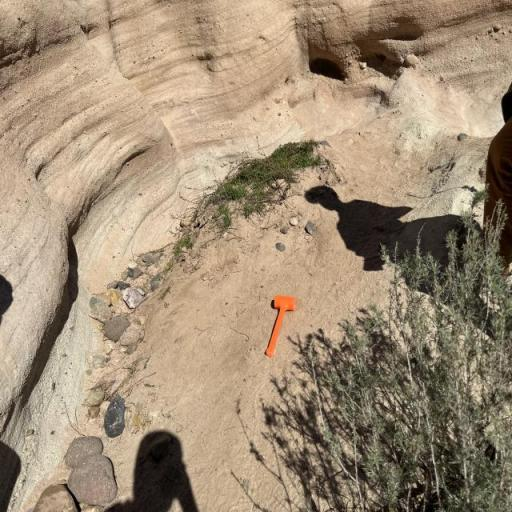mallet: (266, 295, 296, 358)
